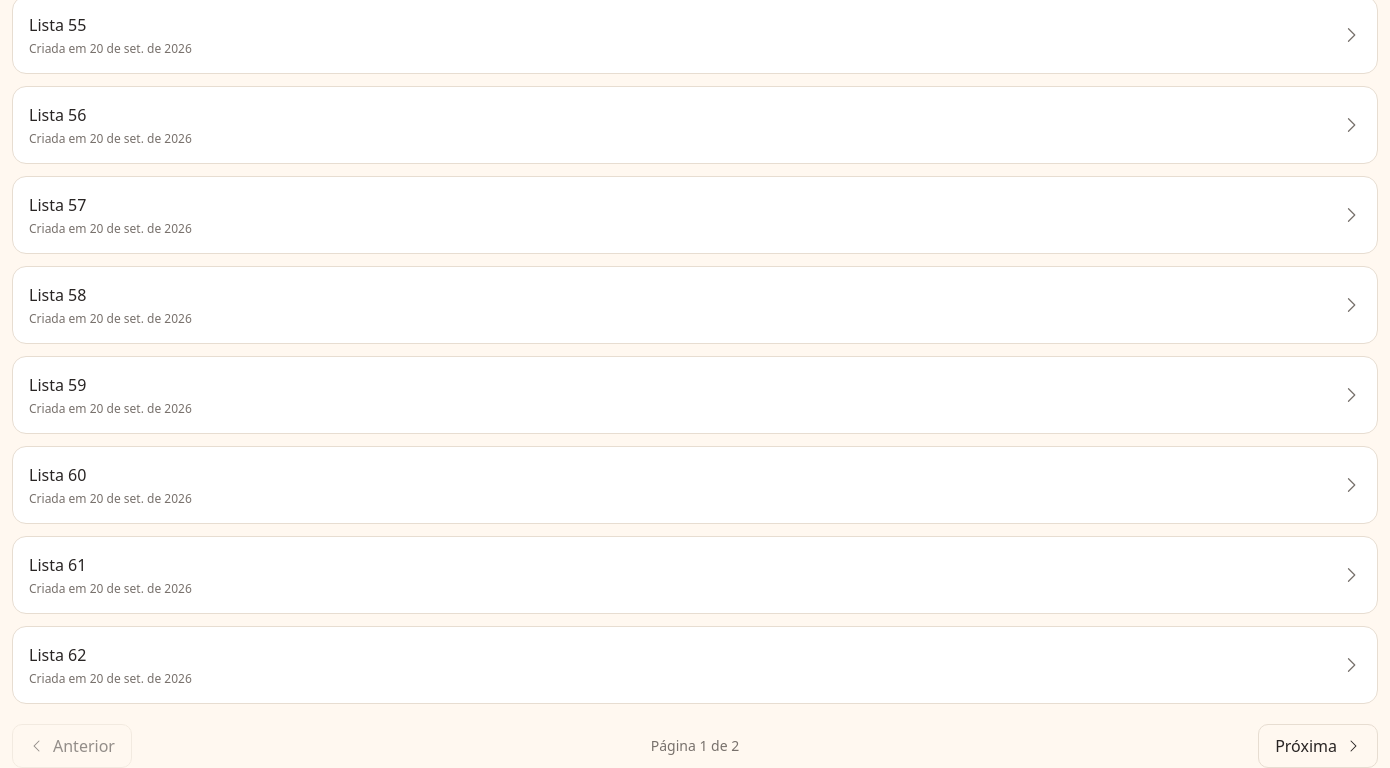
it: pagination › goes back to page 1 when the search changes
(page scrolled)
Click the button "Próxima" at (1318, 746), box top-left (1258, 724), bottom-right (1378, 767)
(page scrolled)
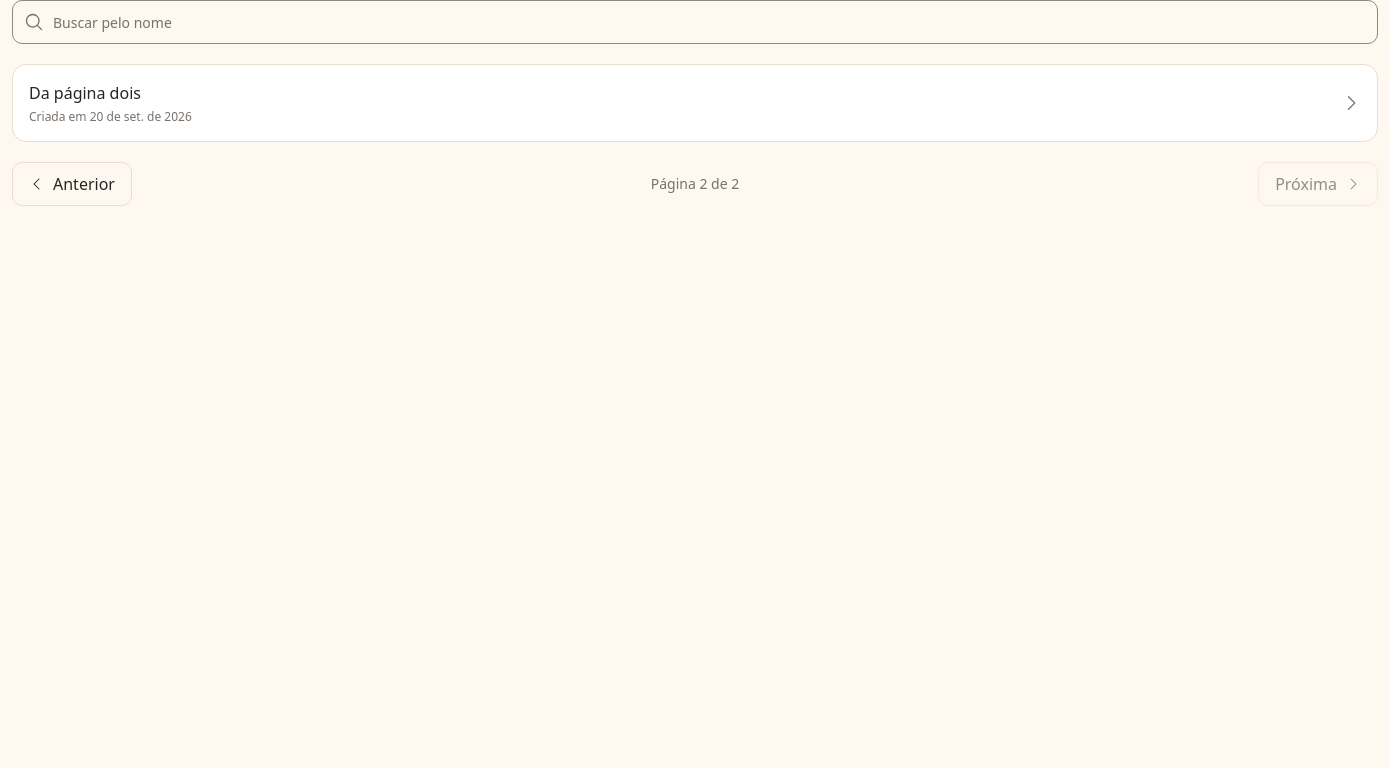
Result: the text "Página 2 de 2" is shown at top-left (651, 174), bottom-right (739, 194)
Type "a" into the search field named "Buscar listas" at (695, 22), box top-left (12, 0), bottom-right (1378, 44)
(page scrolled)
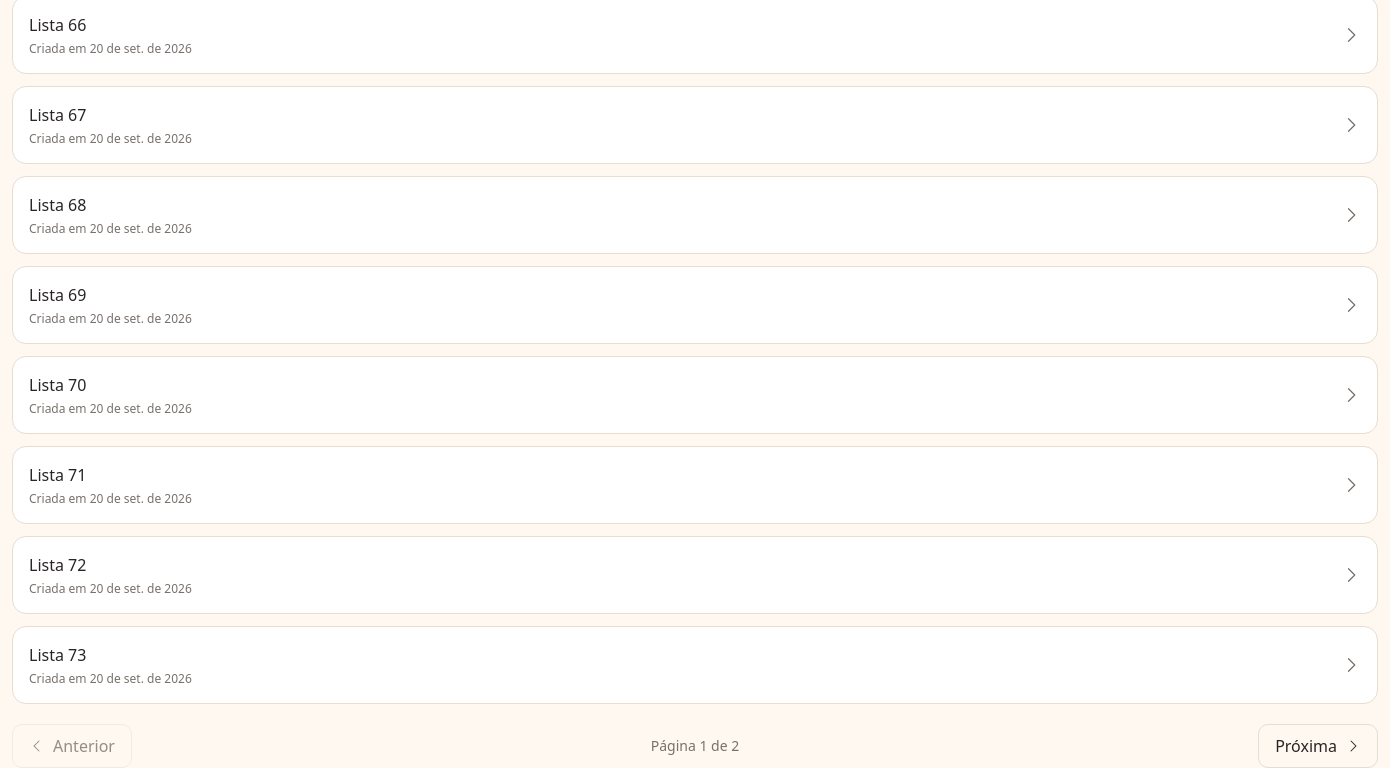
Result: the text "Página 1 de 2" is shown at top-left (651, 736), bottom-right (739, 756)
